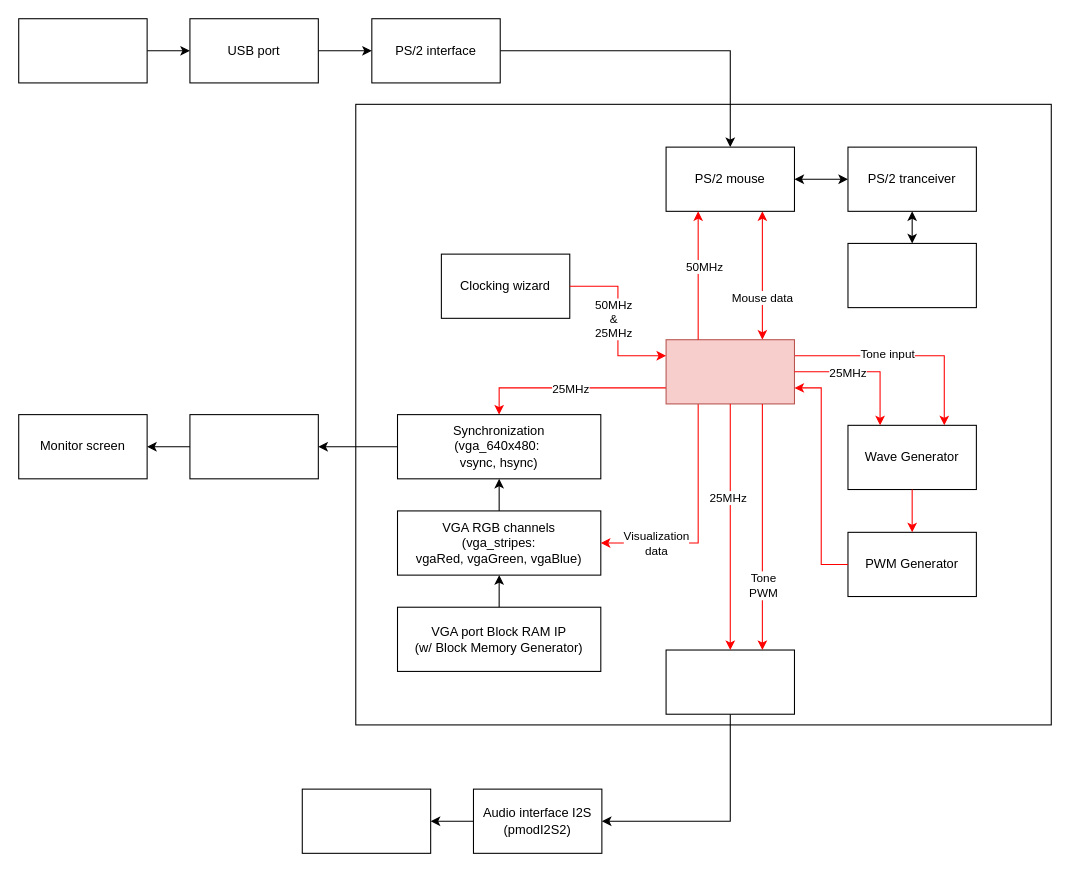
The diagram is 1070 pixels wide and 872 high, and some of its shapes have lost their labels. The centre of each missing label's shape, as x and y in pixels:
"Audiomodule" goes at pixel 729 681.
"Debounce" goes at pixel 911 275.
"Speaker" goes at pixel 366 820.
"TOP" goes at pixel 729 371.
"USB Mouse" goes at pixel 82 50.
"VGA port" goes at pixel 253 446.
